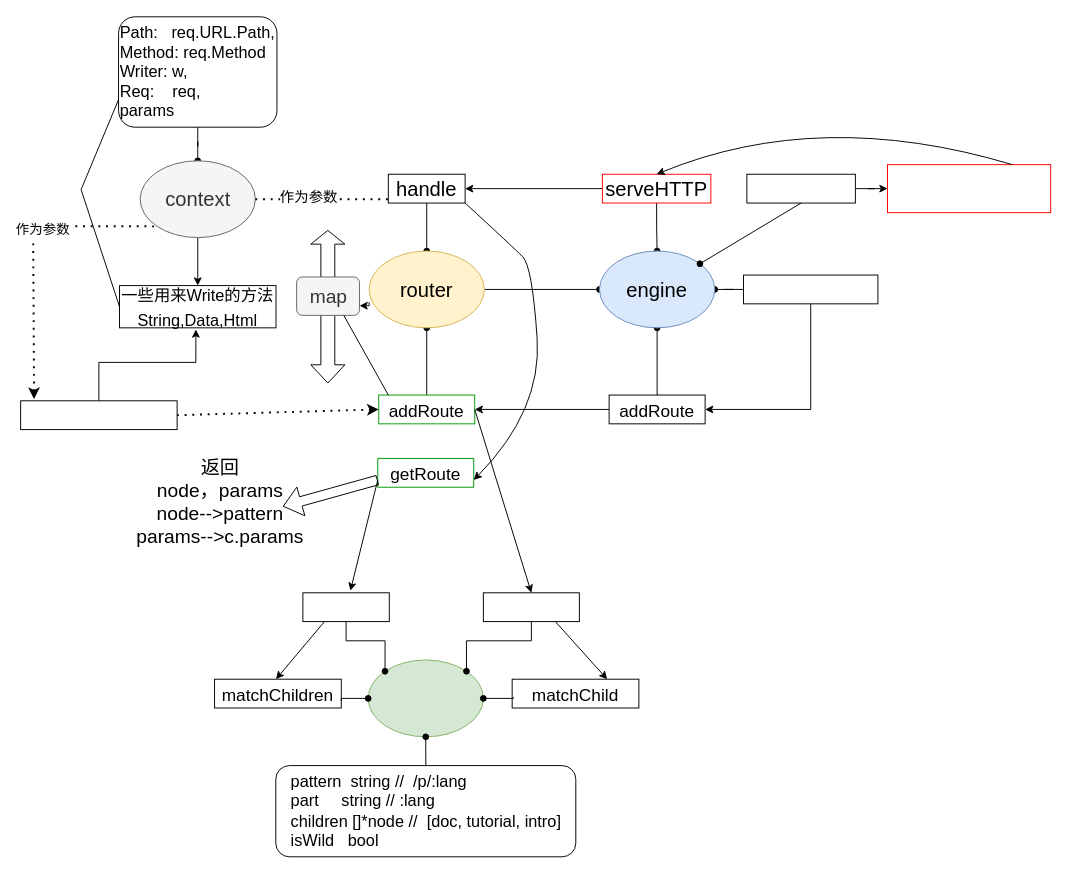
This 1068x874 diagram has some shape labels left out. The shapes that lost their labels are listed below. From the top down, each one's centre as x and y in pixels, then its label:
At (800,188): "Run".
At (969,188): "ListenAndServe (addr,engine)".
At (810,289): "GET\POST注册".
At (98,415): "一些handler函数".
At (345,607): "search".
At (530,607): "insert".
At (425,698): "node".
